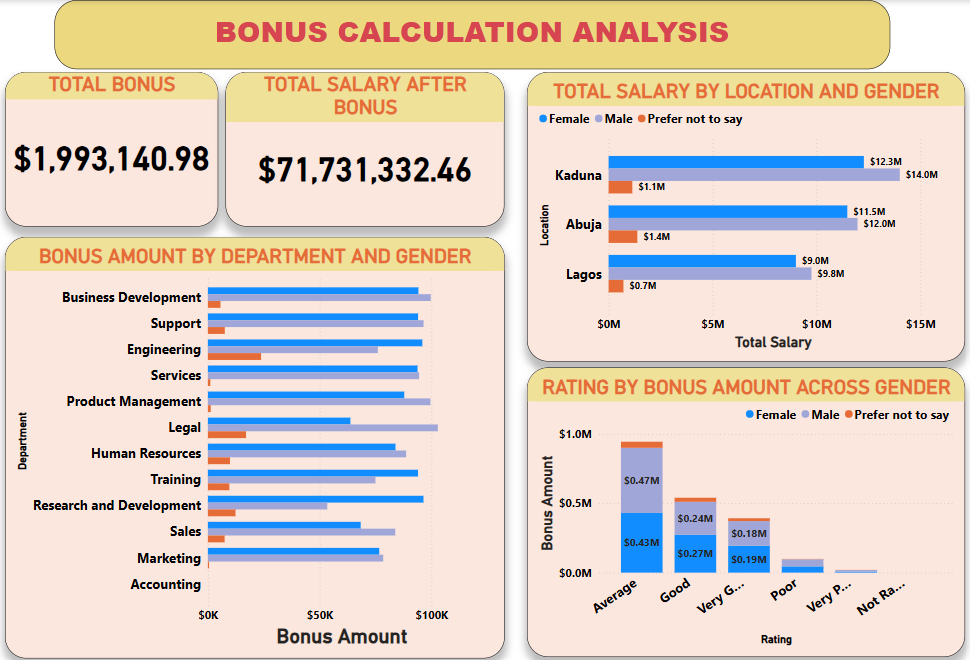

What the dashboard file says about the page in this screenshot:
{"tool":"powerbi","page":{"name":"Page 4","canvas":[1350,880],"ordinal":3},"visuals":[{"type":"card","title":"TOTAL BONUS","fields":{"Values":["Palmoria Group Employee Data.Bonus Amount"]},"box":[15.8,95,281,203.8],"z":0},{"type":"card","title":"TOTAL SALARY AFTER BONUS","fields":{"Values":["Palmoria Group Employee Data.Total Salary"]},"box":[306.8,95,368.1,203.8],"z":1000},{"type":"clusteredBarChart","title":"TOTAL SALARY BY LOCATION AND GENDER","fields":{"Category":["Palmoria Group Employee Data.Location"],"Y":["Palmoria Group Employee Data.Total Salary"],"Series":["Palmoria Group Employee Data.Gender"]},"box":[704.5,95,577.9,382],"z":2000},{"type":"clusteredBarChart","title":"BONUS AMOUNT BY DEPARTMENT AND GENDER","fields":{"Category":["Palmoria Group Employee Data.Department"],"Y":["Palmoria Group Employee Data.Bonus Amount"],"Series":["Palmoria Group Employee Data.Gender"]},"box":[15.8,312.7,659,556.1],"z":3000},{"type":"columnChart","title":"RATING BY BONUS AMOUNT ACROSS GENDER","fields":{"Category":["Palmoria Group Employee Data.Rating"],"Y":["Palmoria Group Employee Data.Bonus Amount"],"Series":["Palmoria Group Employee Data.Gender"]},"box":[704.5,484.9,577.9,382],"z":4000},{"type":"textbox","box":[81.1,0,1102.3,91],"z":5000}]}

Visuals, with their boxes on the page's 1350x880 design canvas (x1, y1, x2, y2). These are canvas units, not pixel positions in the 970x660 screenshot, which may show the page scaled, cropped or inside an application window:
"TOTAL BONUS" card: Rect(16, 95, 297, 299)
"TOTAL SALARY AFTER BONUS" card: Rect(307, 95, 675, 299)
"TOTAL SALARY BY LOCATION AND GENDER" clusteredBarChart: Rect(704, 95, 1282, 477)
"BONUS AMOUNT BY DEPARTMENT AND GENDER" clusteredBarChart: Rect(16, 313, 675, 869)
"RATING BY BONUS AMOUNT ACROSS GENDER" columnChart: Rect(704, 485, 1282, 867)
textbox: Rect(81, 0, 1183, 91)
